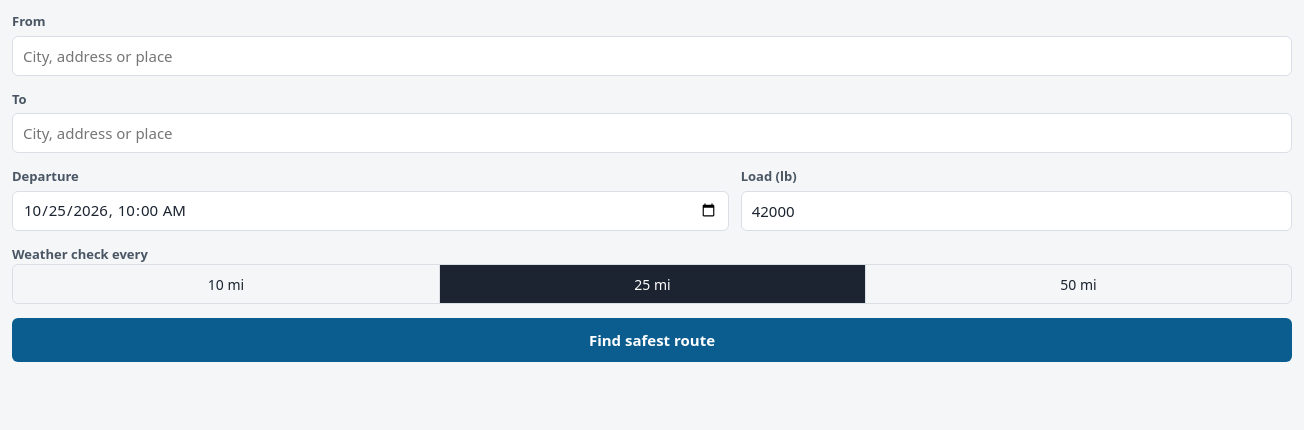
TripForm › asks for both places before submitting
Step 1. Click the button "Find safest route" → {"x": 652, "y": 340}, box [12,318,1292,362]
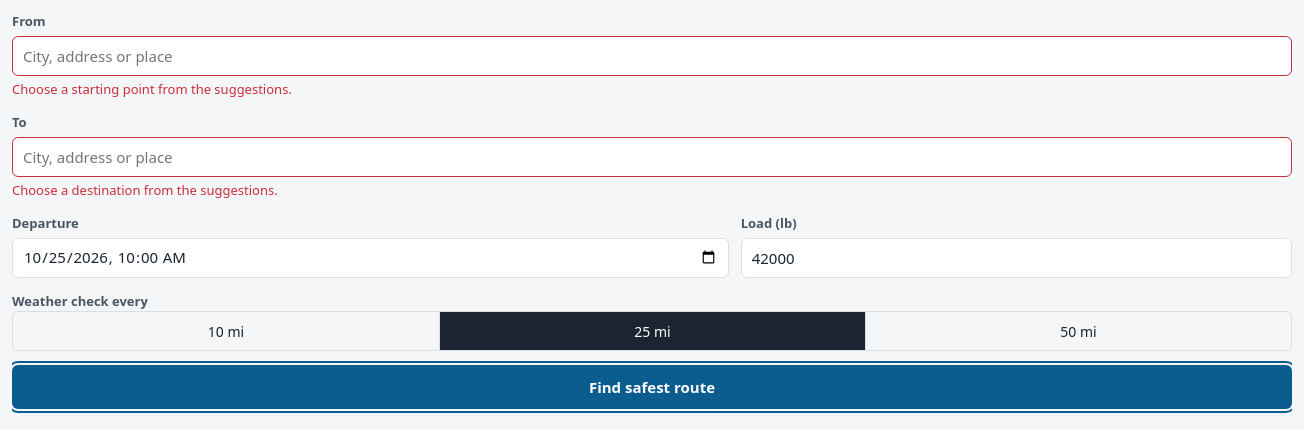
Expected: the text "Choose a starting point from the suggestions." is shown, [12,80,292,98]
Expected: the text "Choose a destination from the suggestions." is shown, [12,180,278,198]
